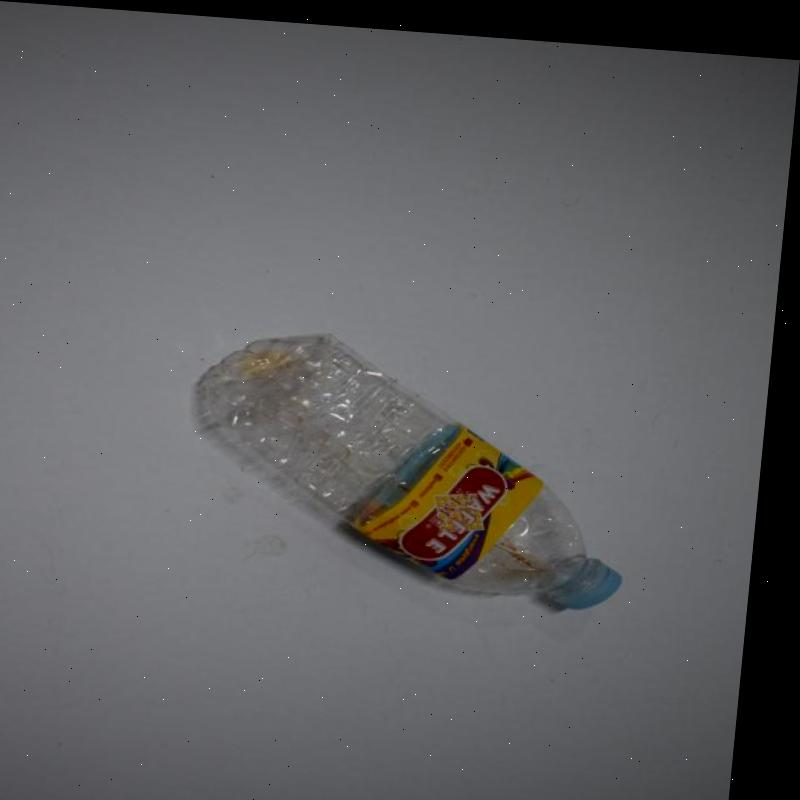botella: (188, 320, 651, 602)
